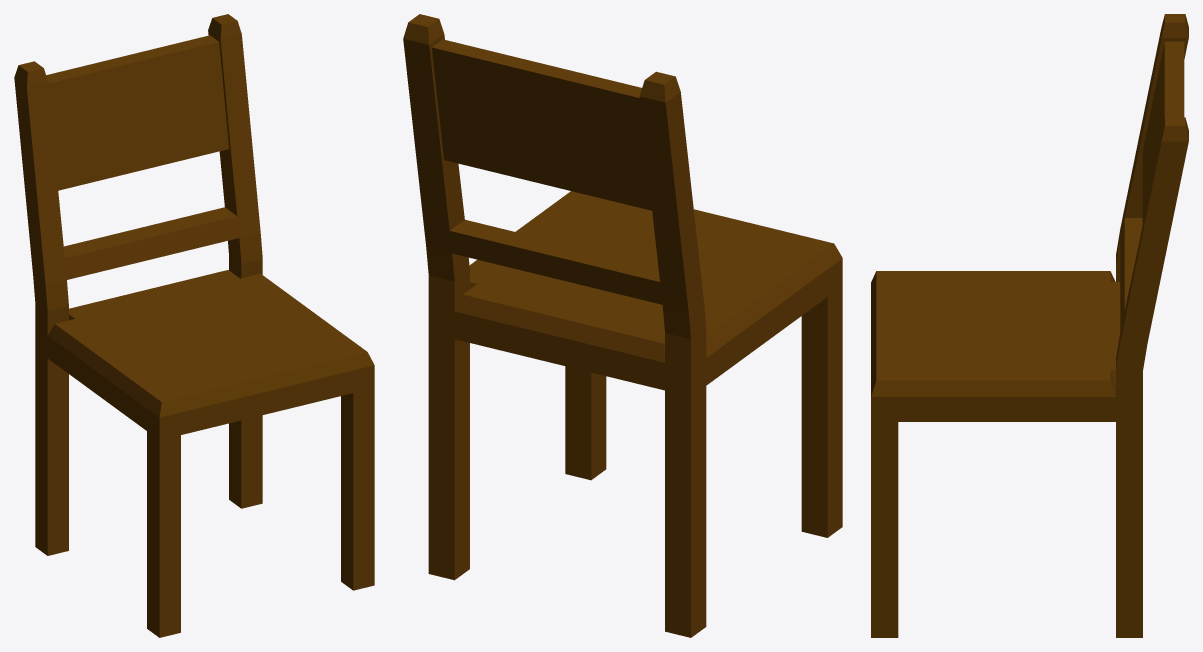
Rendered from chair_01.glb.
3 views of the same model, side by side, from view 1: azimuth 30°, elevation 25°; view 2: azimuth 150°, elevation 25°; view 3: azimuth 270°, elevation 25° (orthographic). The views are drawn at different scales.
Parts seen in each view (by area): view 1: Plane; view 2: Plane; view 3: Plane.
Part boxes in pixels (box(x1,y1,x2,y2)): Plane: box(14, 14, 374, 637); Plane: box(403, 14, 842, 637); Plane: box(871, 14, 1188, 637).
Bounding box in the file's own units: 0.4532 × 0.9401 × 0.5302.
1 material, 1 textured.
